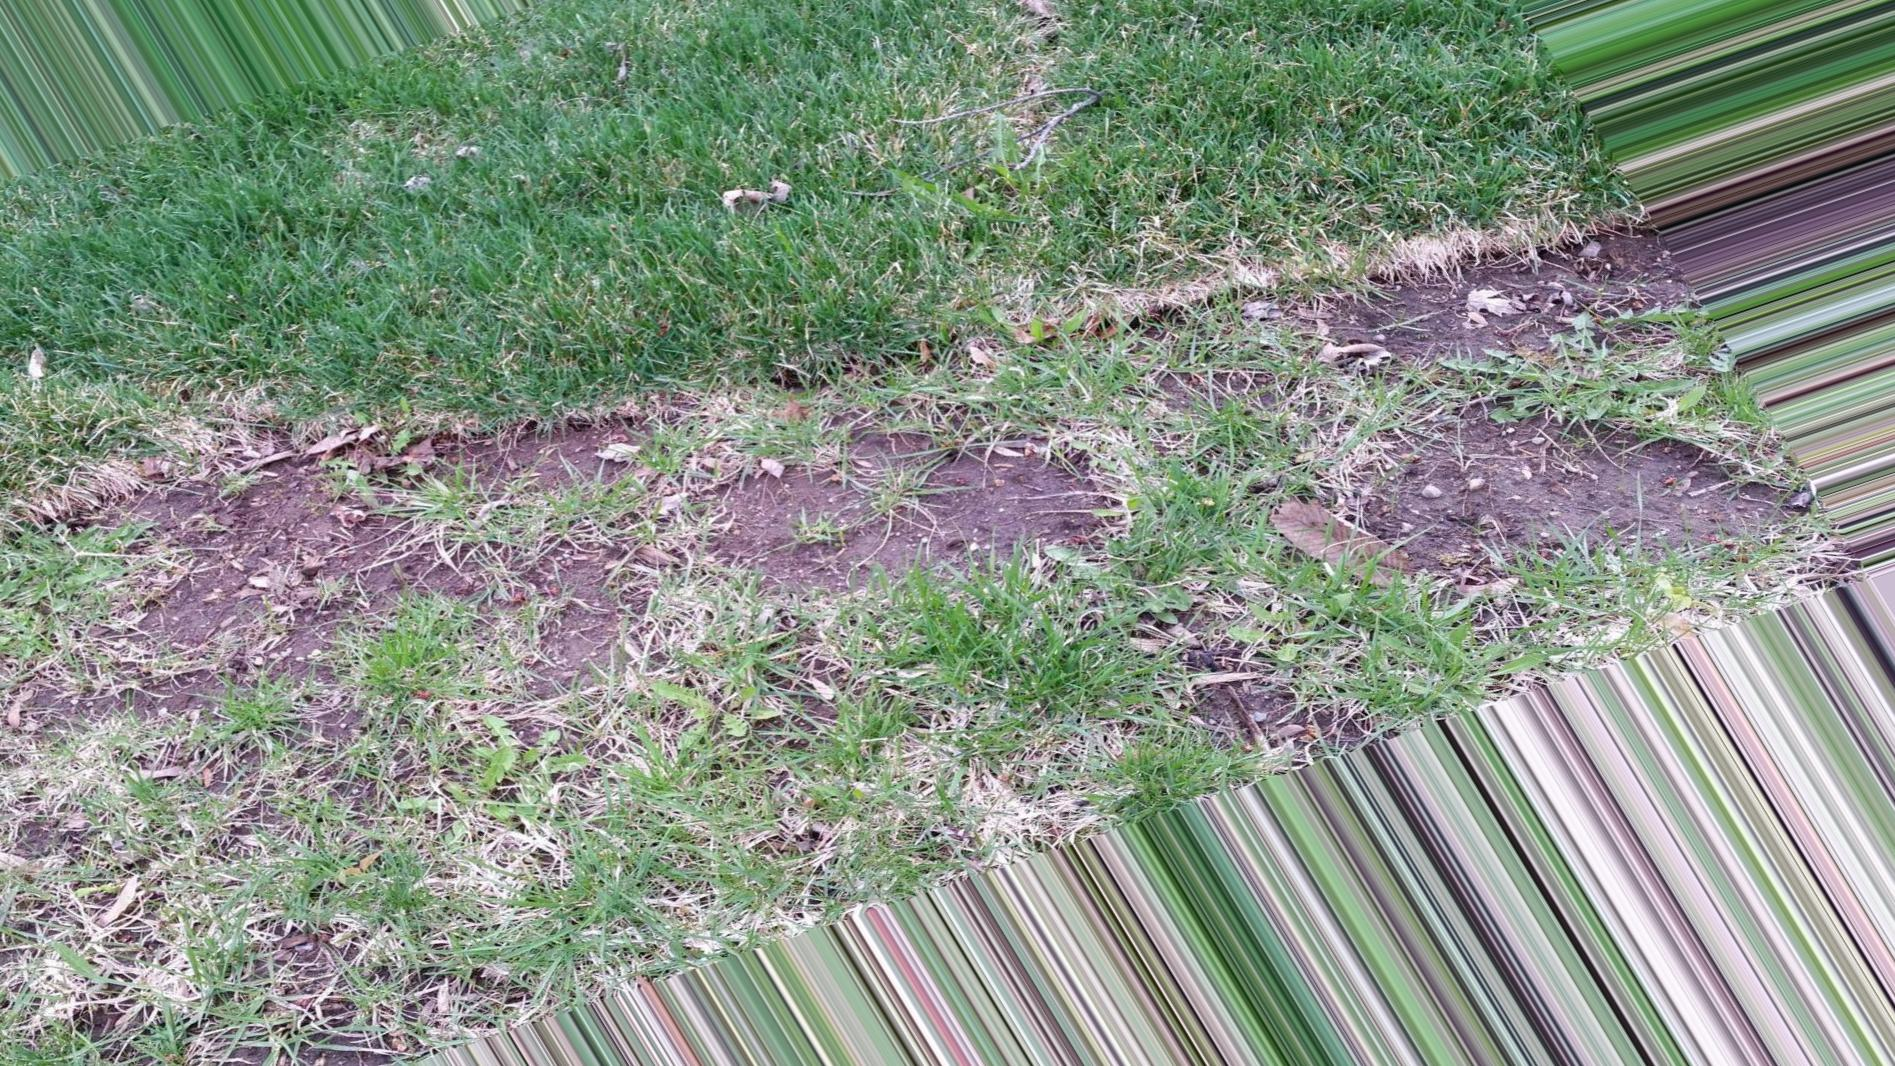patch: (157, 499, 631, 718), (1413, 401, 1803, 561), (725, 449, 1130, 586)
